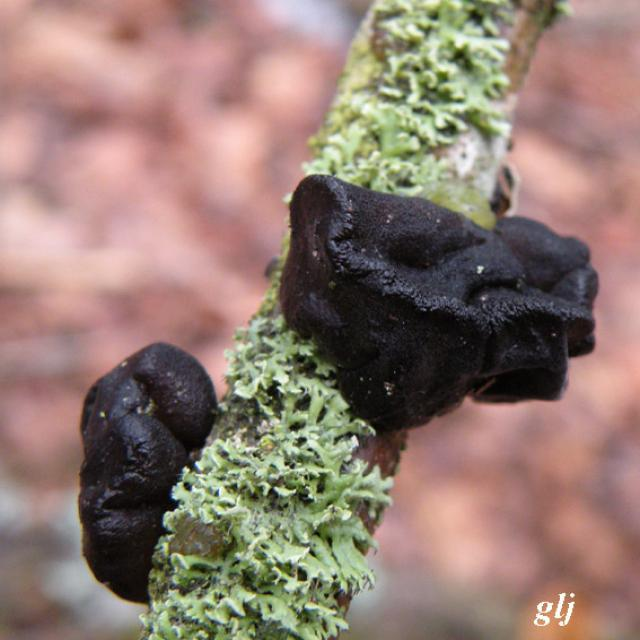Auricularia auricula: (286, 178, 596, 426), (78, 340, 216, 601)
